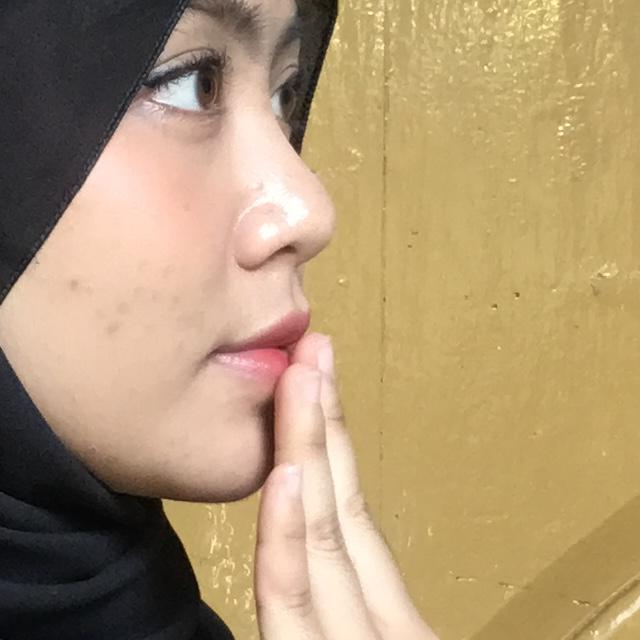ganteng: (170, 276, 570, 640)
